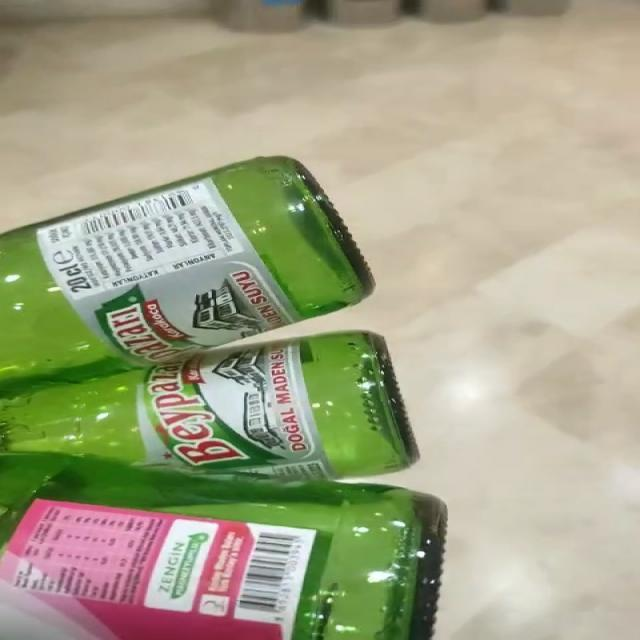Glass: (0, 156, 447, 640)
